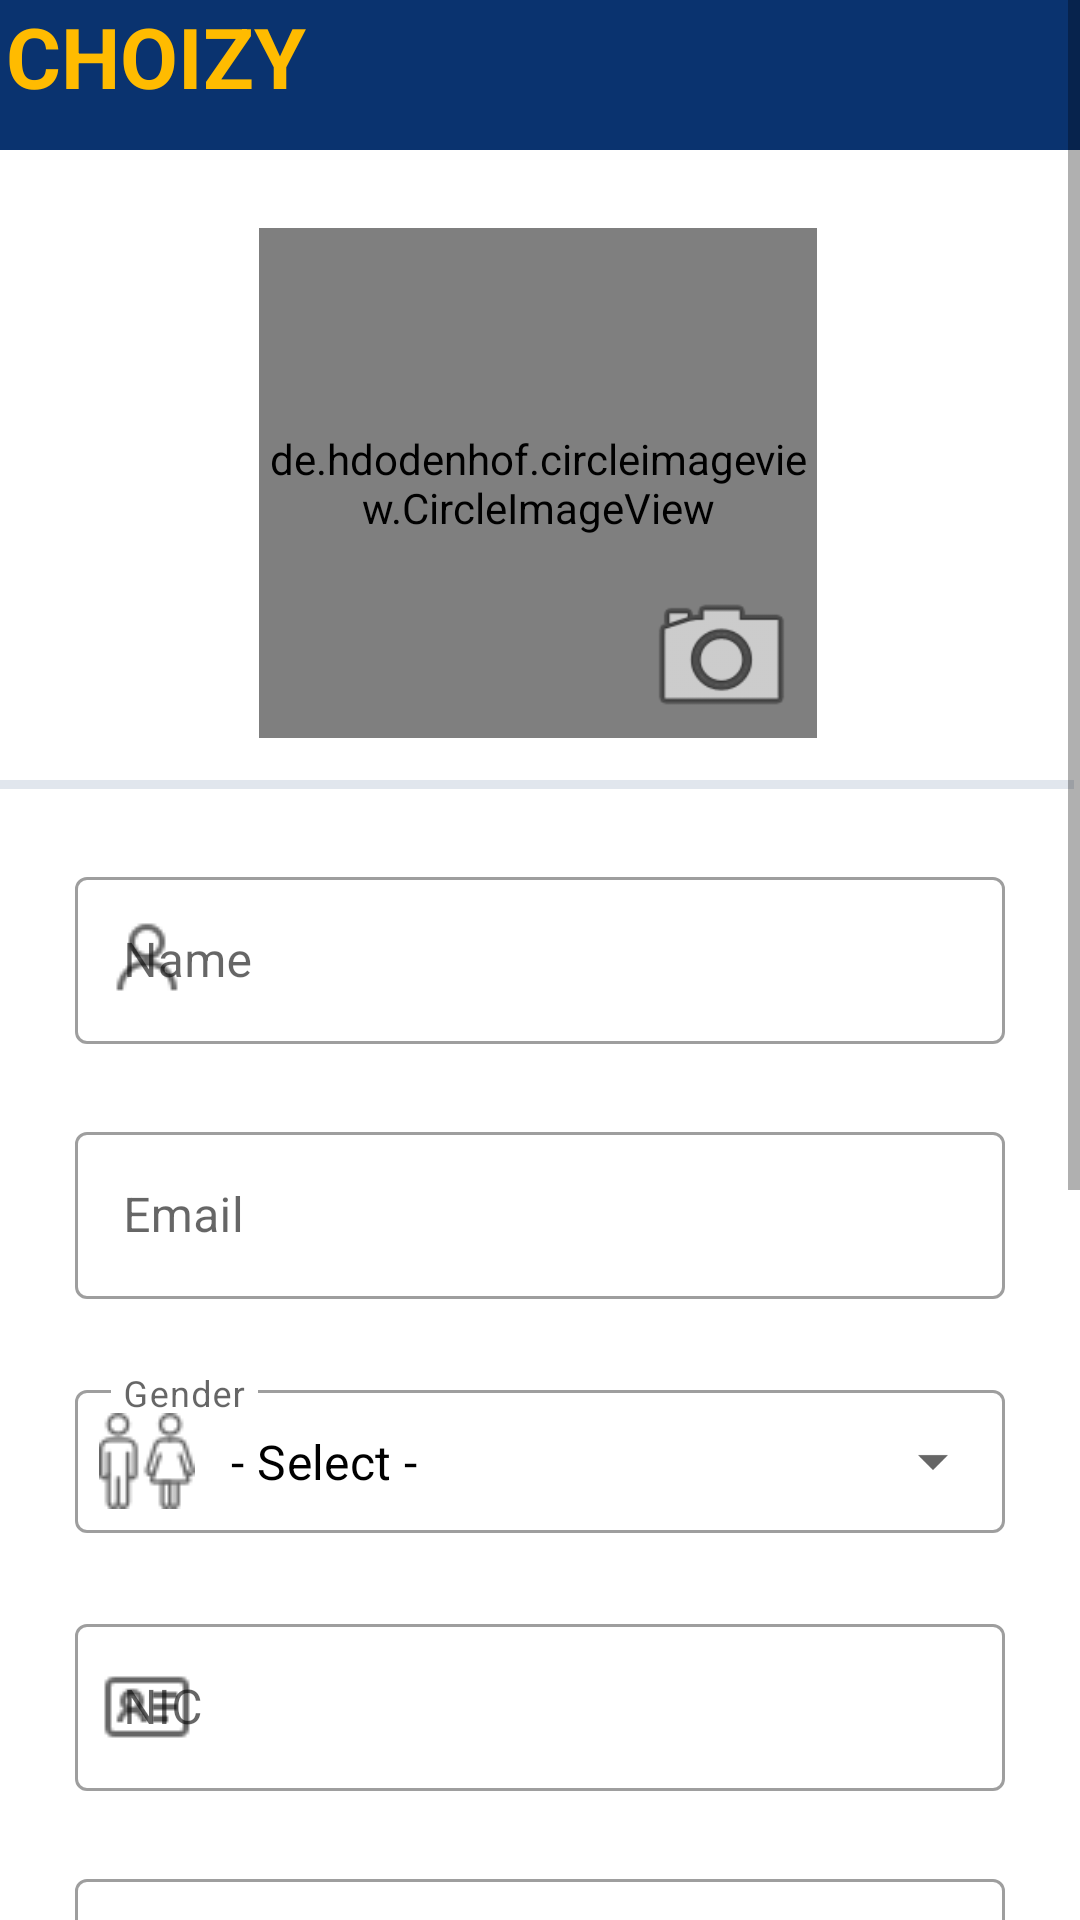

Where to tap for icons on this 1080 x 1920 app screen, as point (x, y):
camera: point (721, 654)
